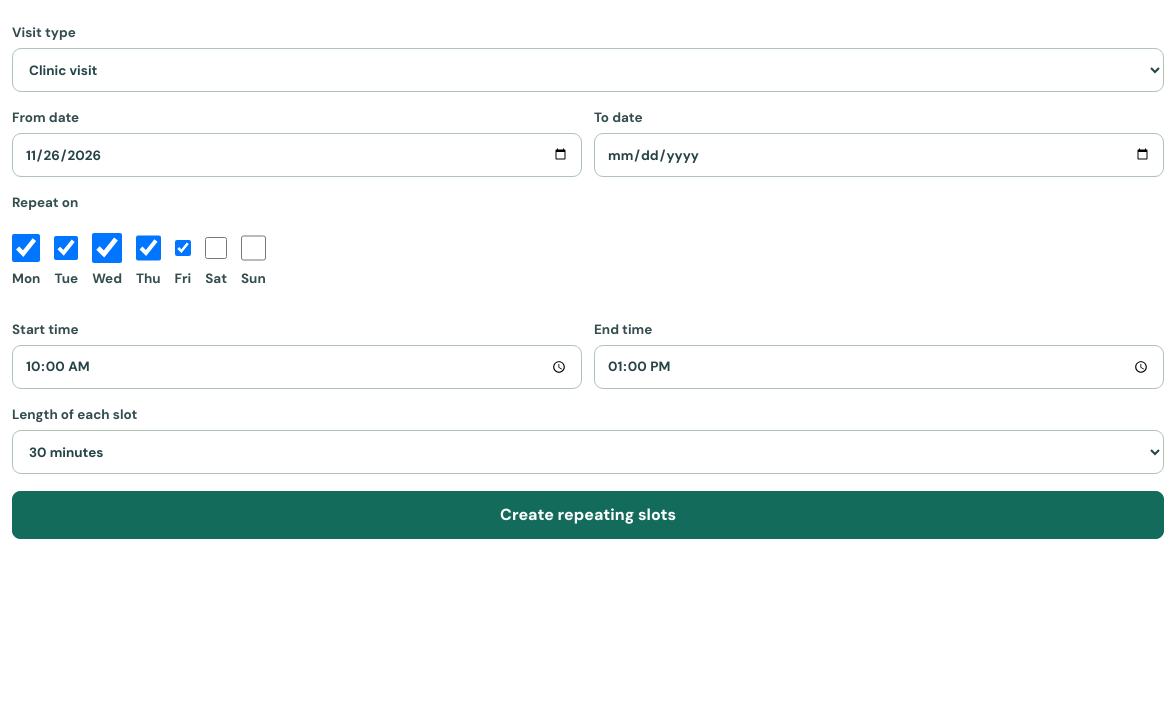
Scenario: BulkSlotForm › sends the repeating schedule exactly as the API expects and reports the result
This screenshot has width=1176, height=720.
Type "2099-01-10" into the date field labelled "To date" at (879, 155), box [594, 133, 1164, 177]
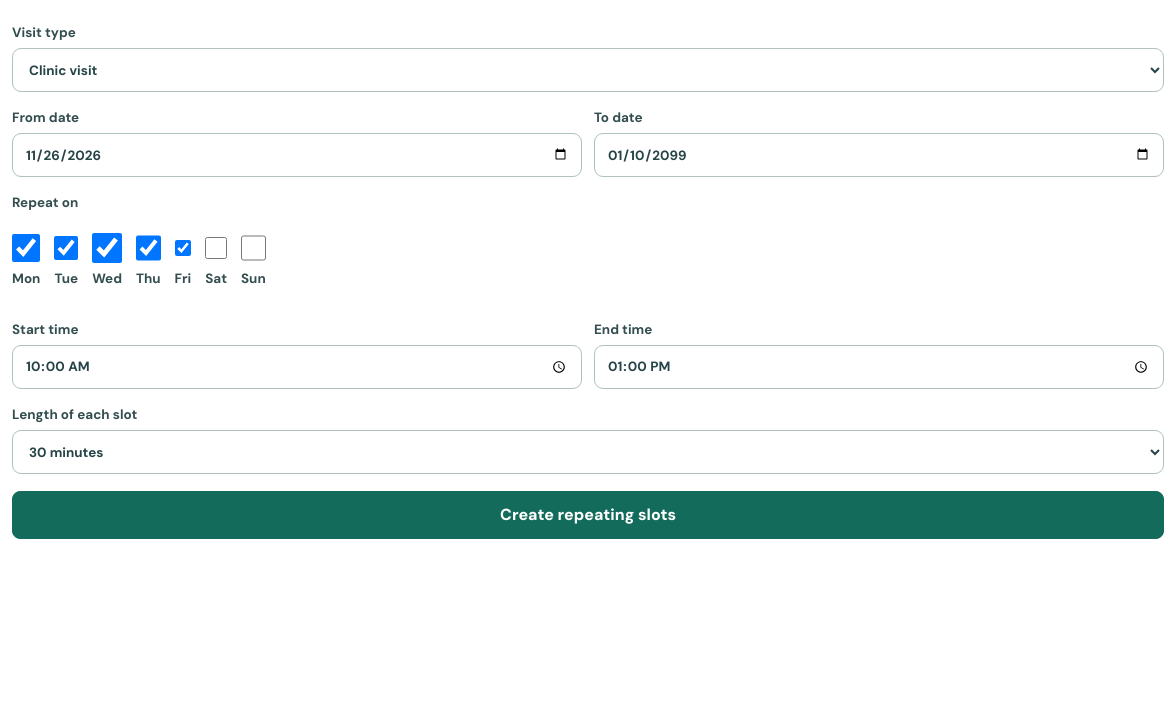
Click the checkbox labelled "Sat" at (216, 248), box [205, 226, 227, 270]
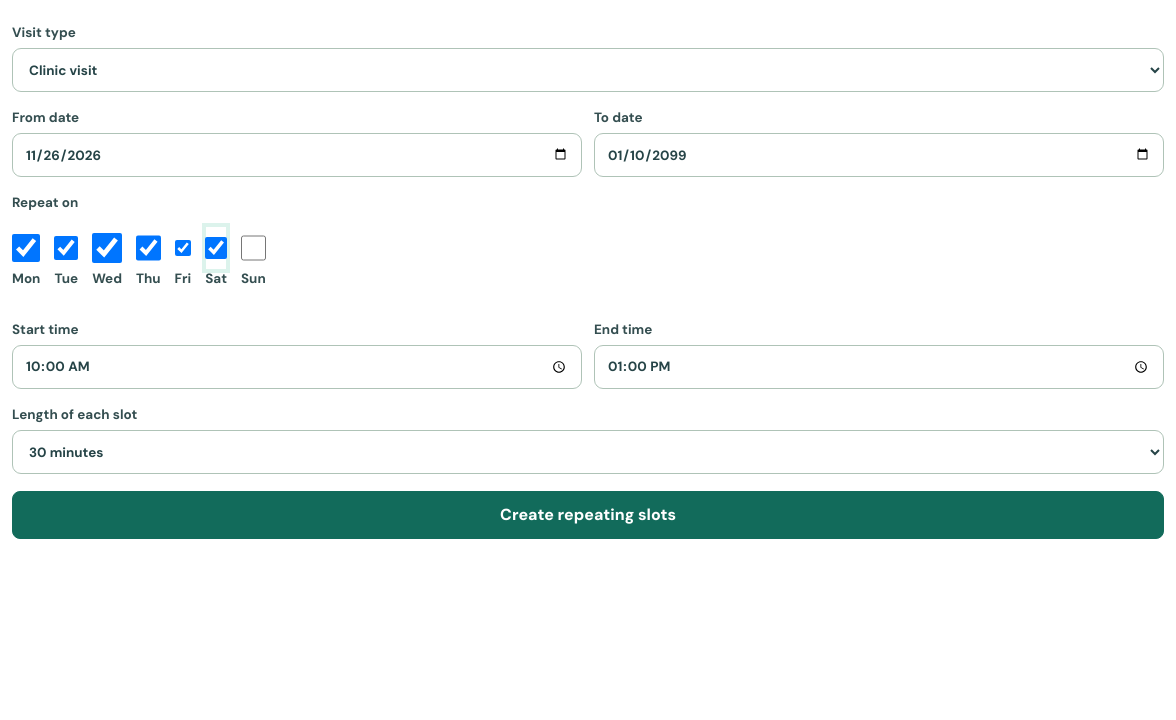
Select "45 minutes" in the dropdown labelled "Length of each slot" at (588, 452), box [12, 430, 1164, 474]
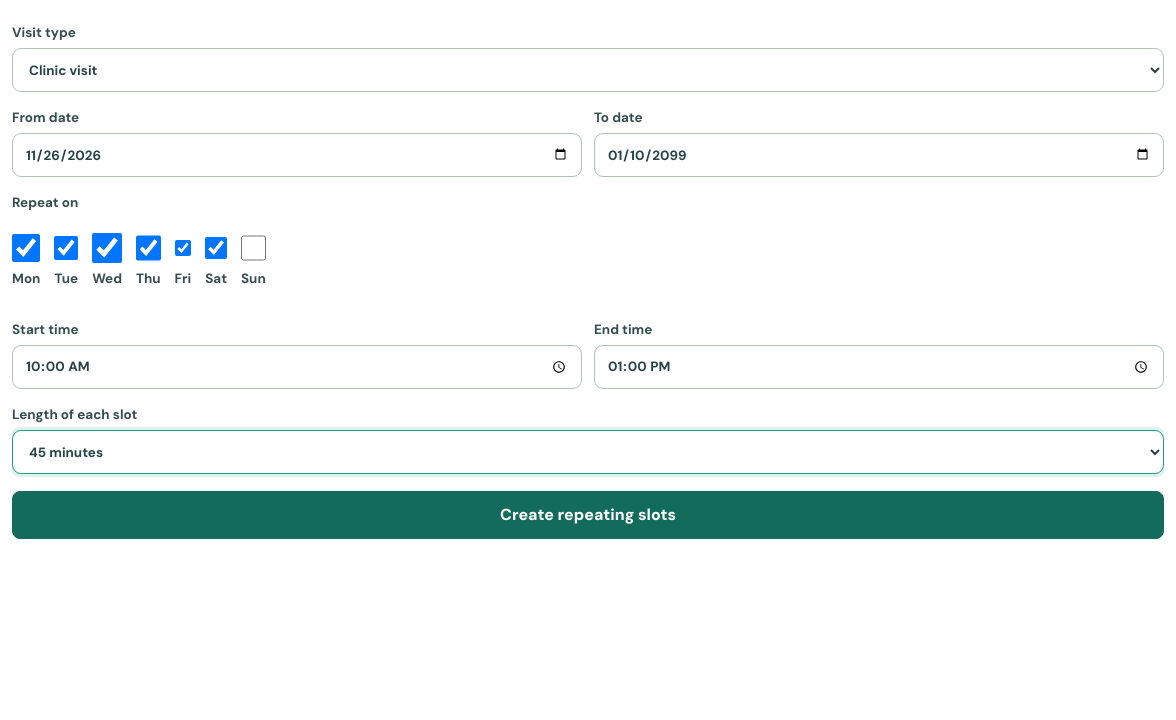
Click the button "Create repeating slots" at (588, 515), box [12, 491, 1164, 539]
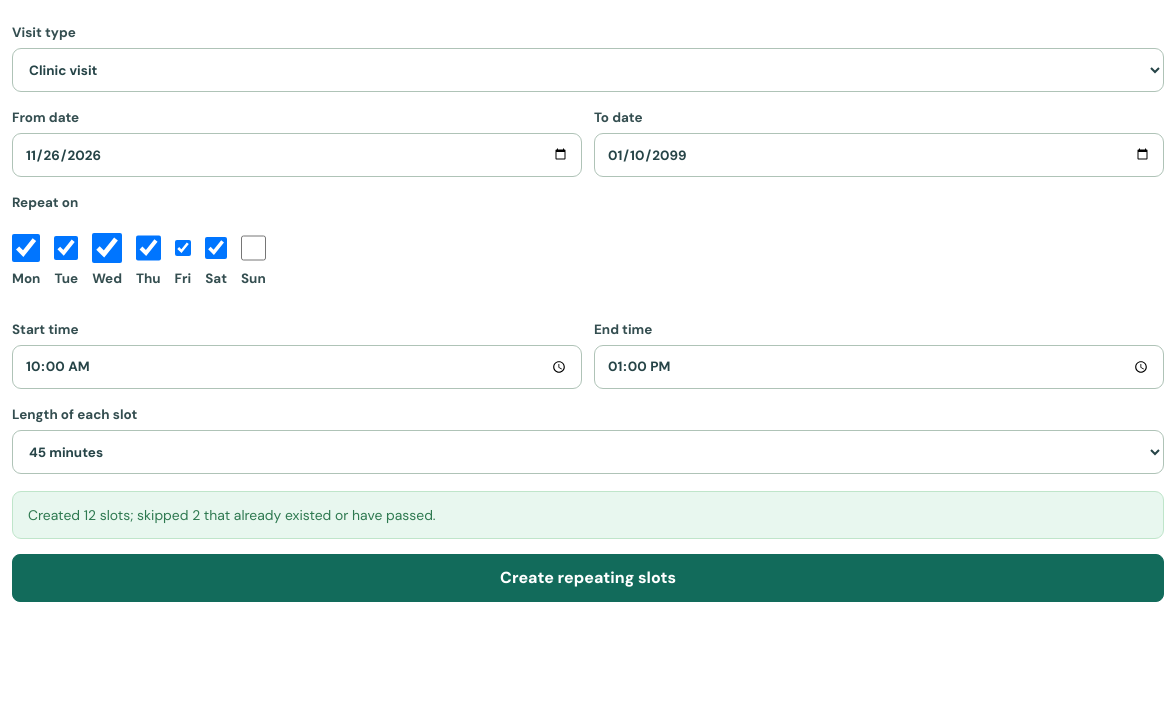
Now the text "Created 12 slots; skipped 2 that already existed or have passed." is shown, box [12, 491, 1164, 539]
